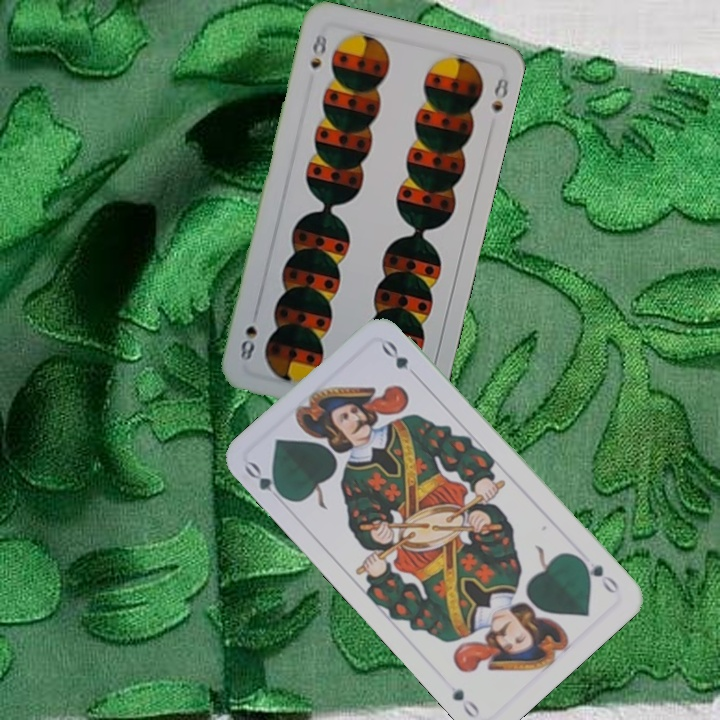GO: (240, 458, 291, 503), (574, 552, 622, 596)
S8: (306, 30, 330, 72)
